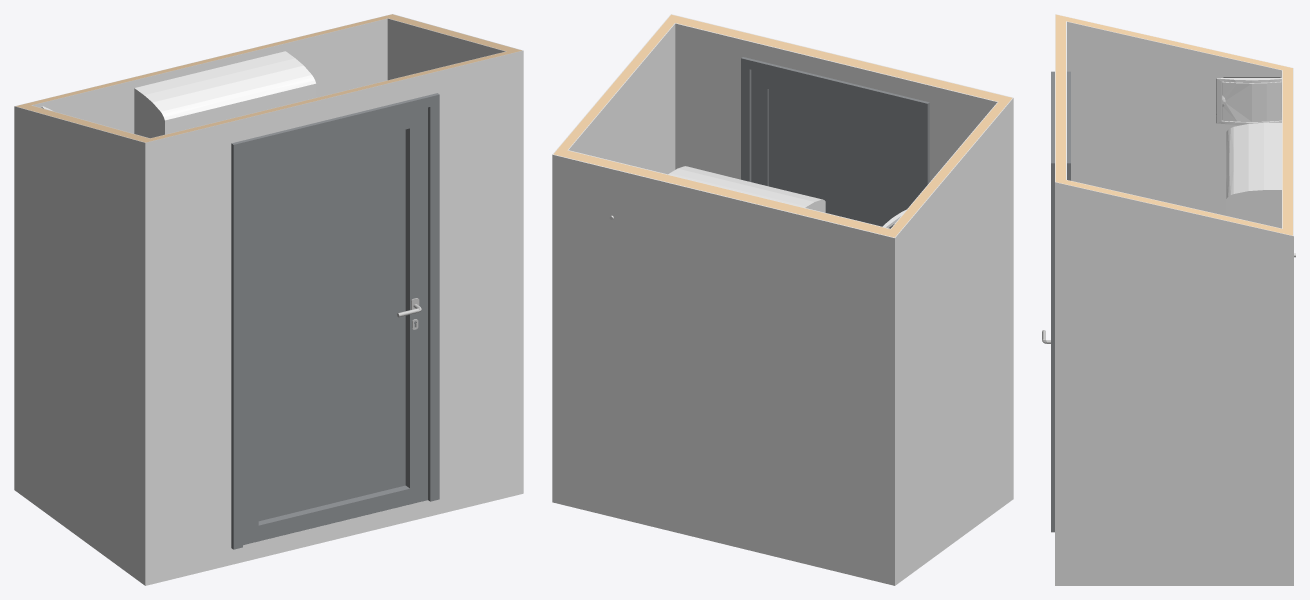
File: gamybinis@gigas.fbx
3 renders of one model, left to right at view 1: azimuth 30°, elevation 25°; view 2: azimuth 150°, elevation 25°; view 3: azimuth 270°, elevation 25°, orthographic. The views are drawn at different scales.
Visible parts, largest first — view 1: IfcDoor/Durys išorinės:1000x2000x60 (kairinės):2439432, IfcWall/Part:2319977, IfcWall/Part:2735904, IfcEnergyConversionDevice/Fujitsu General_ASUA30-36TLAV2:ASU, IfcWall/Part:2397154, IfcWall/Part:2397151, IfcWall/Part:2397156, IfcWall/Part:2319978, IfcWall/Part:2397153, IfcWall/Part:2735905, IfcWall/Part:2397155; view 2: IfcWall/Part:2397155, IfcWall/Part:2735904, IfcDoor/Durys išorinės:1000x2000x60 (kairinės):2439432, IfcWall/Part:2319976, IfcWall/Part:2397151, IfcWall/Part:2397156, IfcWall/Part:2319978, IfcEnergyConversionDevice/Fujitsu General_ASUA30-36TLAV2:ASU, IfcWall/Part:2397153, IfcWall/Part:2735905, IfcWall/Part:2319977; view 3: IfcWall/Part:2397152, IfcWall/Part:2735903, IfcEnergyConversionDevice/Fujitsu General_ASUA30-36TLAV2:ASU, IfcBuildingElementProxy/Electrical_Electrical-Installations_, IfcDoor/Durys išorinės:1000x2000x60 (kairinės):2439432, IfcWall/Part:2397156, IfcWall/Part:2319978, IfcWall/Part:2397153, IfcWall/Part:2735905, IfcWall/Part:2397155.
Part boxes in pixels (<box>): IfcDoor/Durys išorinės:1000x2000x60 (kairinės):2439432: <box>231,93,439,549</box>; IfcWall/Part:2319977: <box>145,50,522,585</box>; IfcWall/Part:2735904: <box>14,106,144,585</box>; IfcEnergyConversionDevice/Fujitsu General_ASUA30-36TLAV2:ASU: <box>134,51,316,138</box>; IfcWall/Part:2397154: <box>32,18,387,133</box>; IfcWall/Part:2397151: <box>387,18,506,80</box>; IfcWall/Part:2397156: <box>16,14,397,107</box>; IfcWall/Part:2319978: <box>140,51,511,142</box>; IfcWall/Part:2397153: <box>389,16,521,52</box>; IfcWall/Part:2735905: <box>21,105,148,140</box>; IfcWall/Part:2397155: <box>14,14,392,489</box>; IfcWall/Part:2397155: <box>552,154,895,585</box>; IfcWall/Part:2735904: <box>895,98,1013,585</box>; IfcDoor/Durys išorinės:1000x2000x60 (kairinės):2439432: <box>741,57,929,226</box>; IfcWall/Part:2319976: <box>675,23,998,181</box>; IfcWall/Part:2397151: <box>568,23,675,174</box>; IfcWall/Part:2397156: <box>553,148,899,237</box>; IfcWall/Part:2319978: <box>675,17,1012,103</box>; IfcEnergyConversionDevice/Fujitsu General_ASUA30-36TLAV2:ASU: <box>668,166,825,212</box>; IfcWall/Part:2397153: <box>559,14,679,150</box>; IfcWall/Part:2735905: <box>891,102,1006,231</box>; IfcWall/Part:2319977: <box>671,14,1013,498</box>; IfcWall/Part:2397152: <box>1055,182,1292,585</box>; IfcWall/Part:2735903: <box>1067,21,1281,215</box>; IfcEnergyConversionDevice/Fujitsu General_ASUA30-36TLAV2:ASU: <box>1226,122,1281,228</box>; IfcBuildingElementProxy/Electrical_Electrical-Installations_: <box>1216,77,1281,124</box>; IfcDoor/Durys išorinės:1000x2000x60 (kairinės):2439432: <box>1051,71,1070,532</box>; IfcWall/Part:2397156: <box>1282,66,1292,235</box>; IfcWall/Part:2319978: <box>1055,14,1065,179</box>; IfcWall/Part:2397153: <box>1055,178,1282,233</box>; IfcWall/Part:2735905: <box>1066,17,1282,69</box>; IfcWall/Part:2397155: <box>1293,68,1293,585</box>.
Size of the model in its own units: 200 by 224 by 127.
